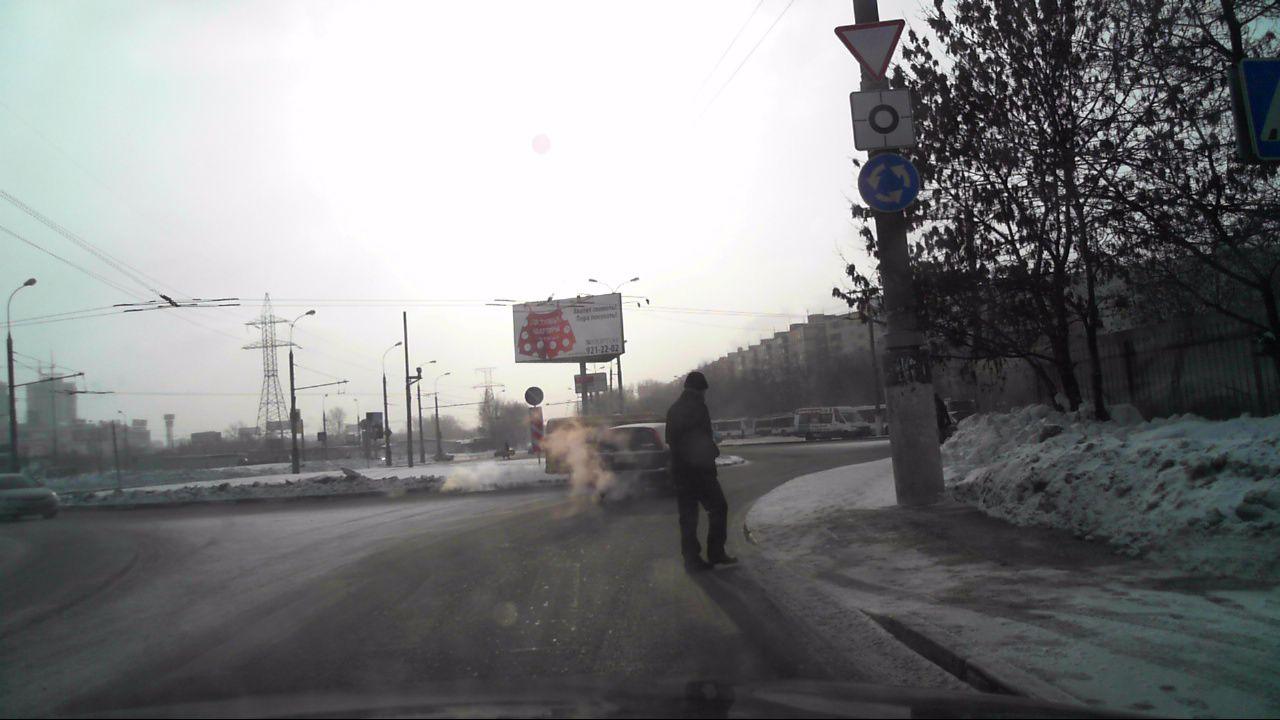Round-About: (858, 155, 921, 213)
